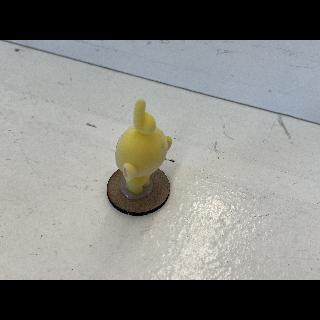teletubby: (115, 99, 172, 194)
